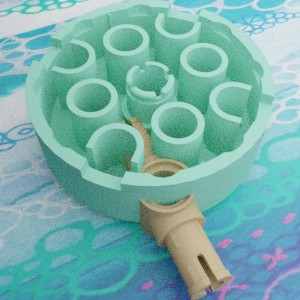lego: (25, 0, 274, 222), (109, 116, 232, 299)
